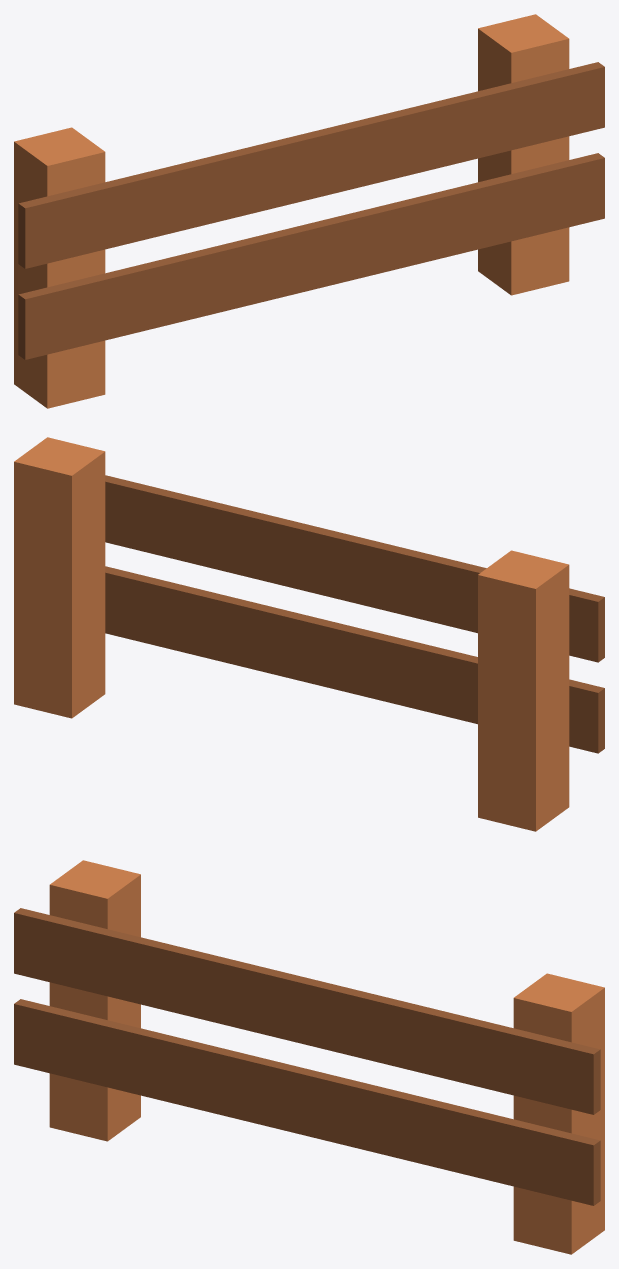
Rendered from fence.fbx.
The picture shows the model from 3 angles, top to bottom: view 1: azimuth 30°, elevation 25°; view 2: azimuth 150°, elevation 25°; view 3: azimuth 330°, elevation 25°; orthographic projection.
Parts seen in each view (by area): view 1: fence; view 2: fence; view 3: fence.
Boxes of the visible parts, left/top/right/bottom form: fence: left=14, top=14, right=604, bottom=408; fence: left=14, top=437, right=604, bottom=831; fence: left=14, top=860, right=604, bottom=1254.
Size of the model in its own units: 10 by 4 by 1.2.
